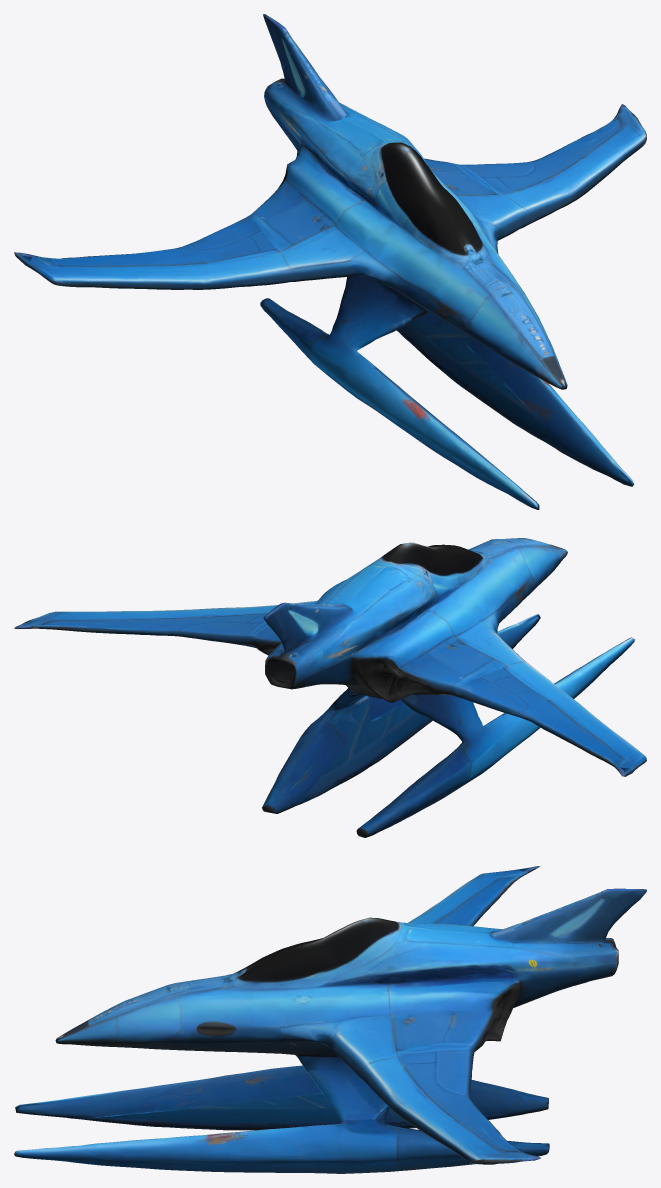
The model's file is Starblue_Speeder_0722073156_texture.fbx.
3 renders of one model, top to bottom at view 1: azimuth 30°, elevation 25°; view 2: azimuth 150°, elevation 25°; view 3: azimuth 270°, elevation 25°, orthographic.
Visible parts, largest first — view 1: Mesh_0; view 2: Mesh_0; view 3: Mesh_0.
Part boxes in pixels (x1,y1,x2,y2): Mesh_0: (14,14,646,509); Mesh_0: (14,538,646,837); Mesh_0: (14,866,646,1173).
Size of the model in its own units: 200 by 83.47 by 183.
Materials: 1 (1 with a texture image).
